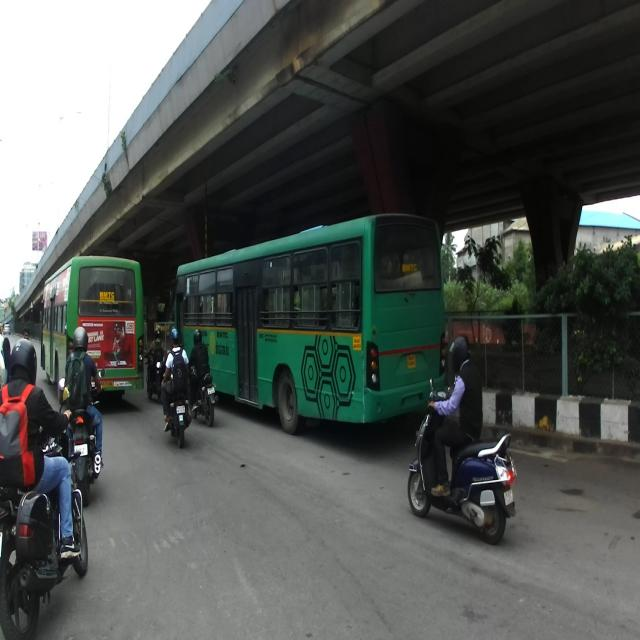bus: (167, 210, 447, 436), (39, 255, 145, 403)
motorcycle_Honda: (0, 383, 88, 638)
motorcycle_Suzuki: (54, 367, 105, 506)
motorcycle_bajaj: (158, 362, 192, 454), (188, 367, 219, 426)
scooter: (406, 379, 516, 545)
